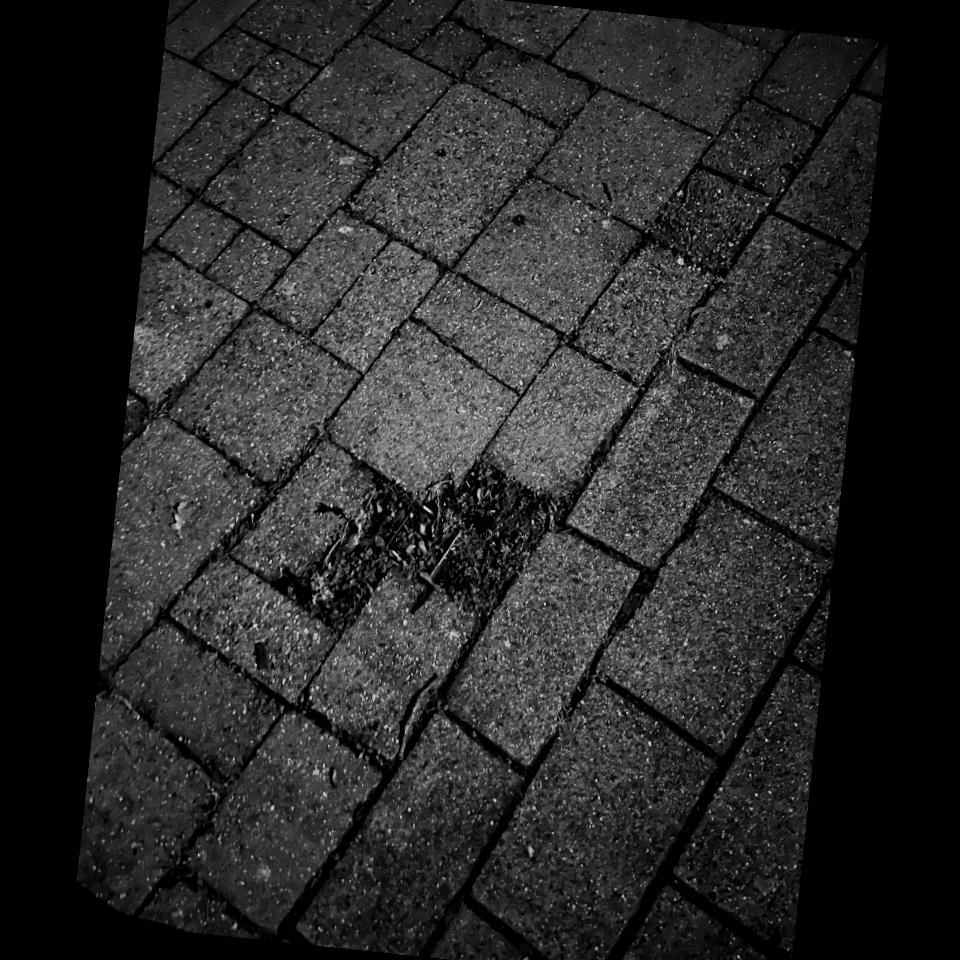weed: (297, 456, 554, 634)
